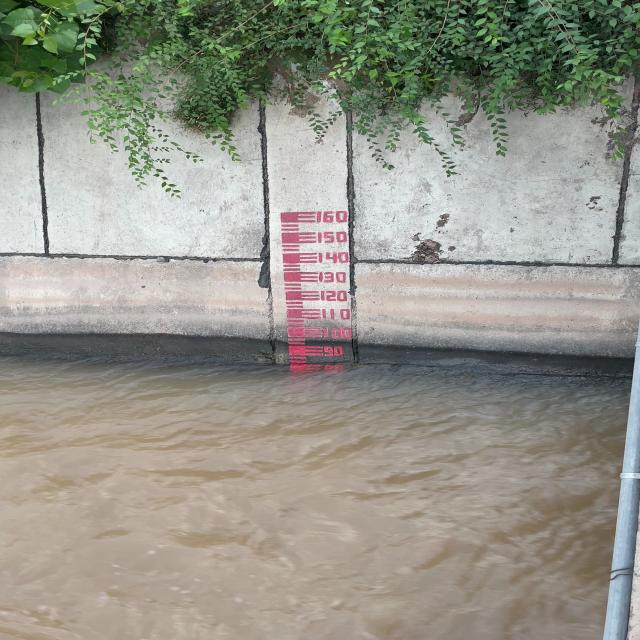ruler: (273, 206, 360, 361)
value: (311, 208, 353, 224), (313, 229, 352, 246), (316, 250, 353, 266), (315, 269, 351, 285), (316, 288, 352, 303), (318, 307, 354, 321), (321, 326, 355, 340), (319, 344, 346, 358)
